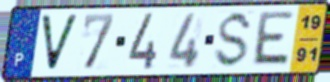4: (168, 11, 202, 71), (127, 11, 159, 72)
7: (82, 12, 118, 73)
E: (248, 9, 296, 68)
S: (212, 10, 256, 71)
V: (38, 13, 81, 73)
